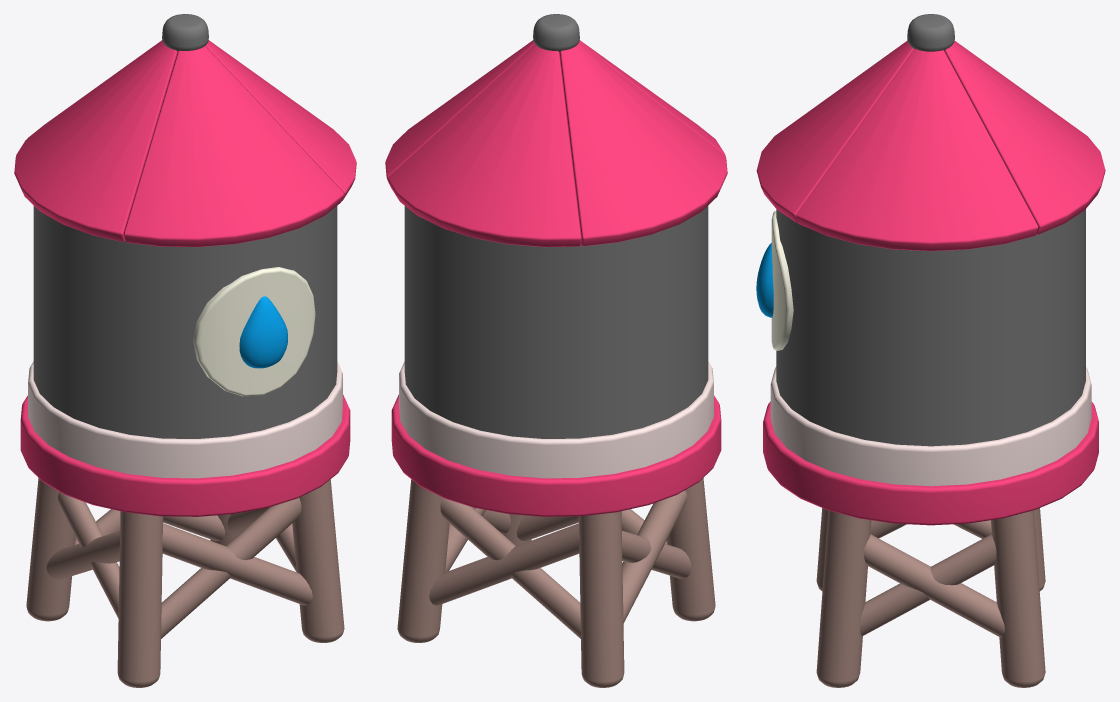
Rendered from Farm_16_Water_Tower_1.glb.
3 views of the same model, side by side, from view 1: azimuth 30°, elevation 25°; view 2: azimuth 150°, elevation 25°; view 3: azimuth 270°, elevation 25° (orthographic).
Parts seen in each view (by area): view 1: Farm_16_Water_Tower_1; view 2: Farm_16_Water_Tower_1; view 3: Farm_16_Water_Tower_1.
Part boxes in pixels (x1=…): Farm_16_Water_Tower_1: x1=14, y1=14, x2=356, y2=687; Farm_16_Water_Tower_1: x1=385, y1=14, x2=727, y2=687; Farm_16_Water_Tower_1: x1=756, y1=14, x2=1105, y2=687.
Size of the model in its own units: 3.58 by 6.97 by 3.58.
1 material, 1 textured.
